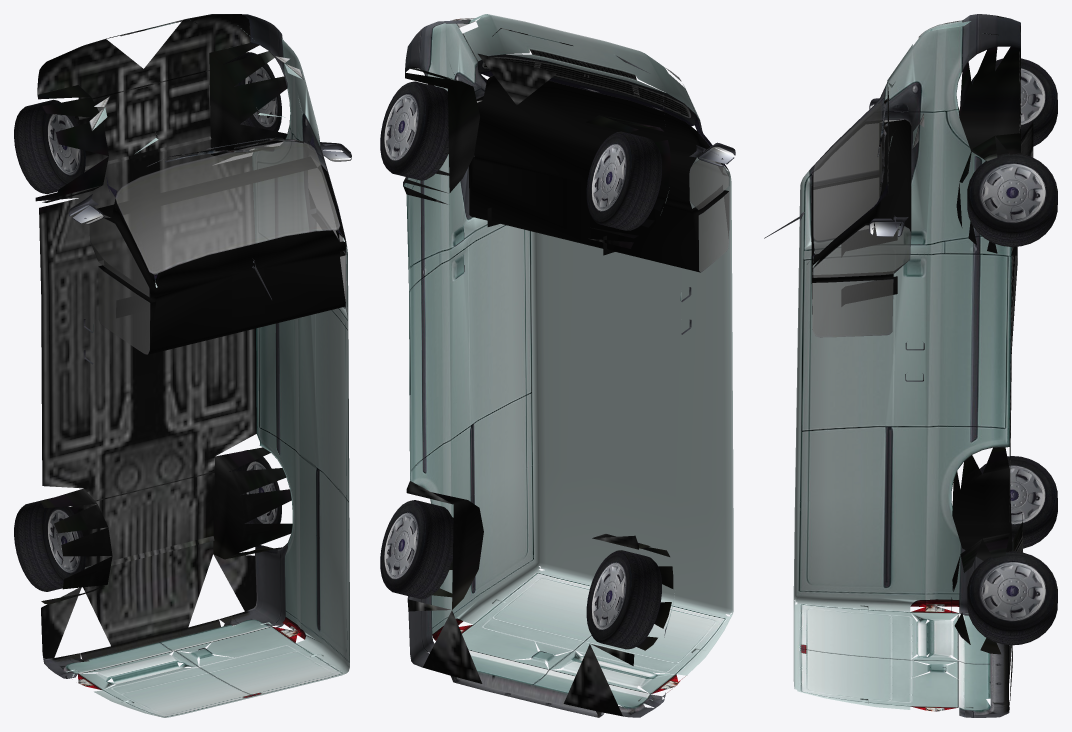
File: van.gltf
3 views of the same model, side by side, from view 1: azimuth 30°, elevation 25°; view 2: azimuth 150°, elevation 25°; view 3: azimuth 270°, elevation 25° (orthographic). The views are drawn at different scales.
Visible parts, largest first — view 1: van03a_; view 2: van03a_; view 3: van03a_.
Part boxes in pixels (left/top/right/bottom): van03a_: left=14, top=14, right=351, bottom=717; van03a_: left=380, top=14, right=735, bottom=717; van03a_: left=764, top=14, right=1057, bottom=717.
Bounding box in the file's own units: 0.6034 × 1.31 × 0.5605.
2 materials, 2 textured.
